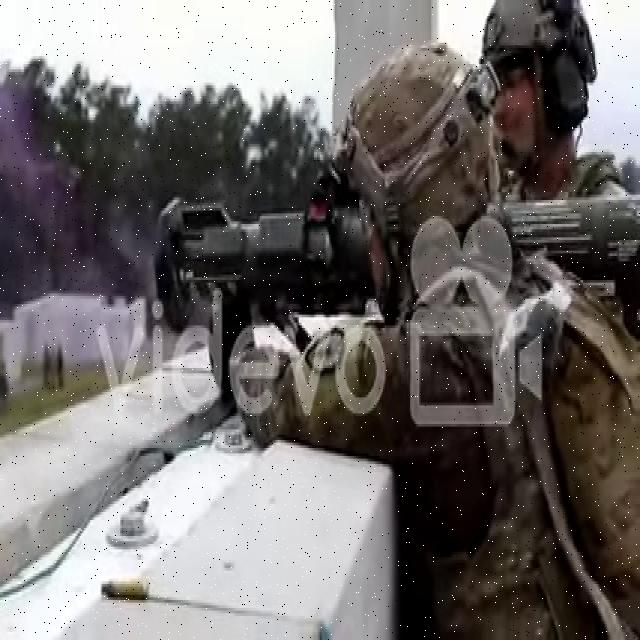bazooka: (154, 190, 640, 341)
